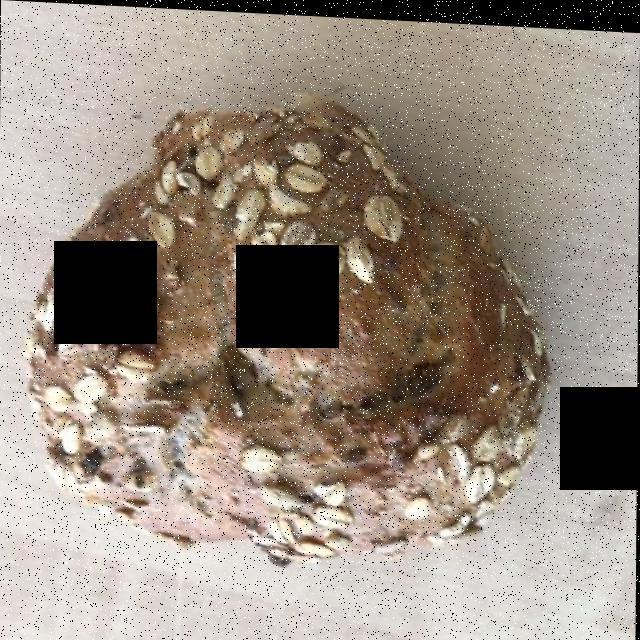bread: (28, 97, 538, 554)
